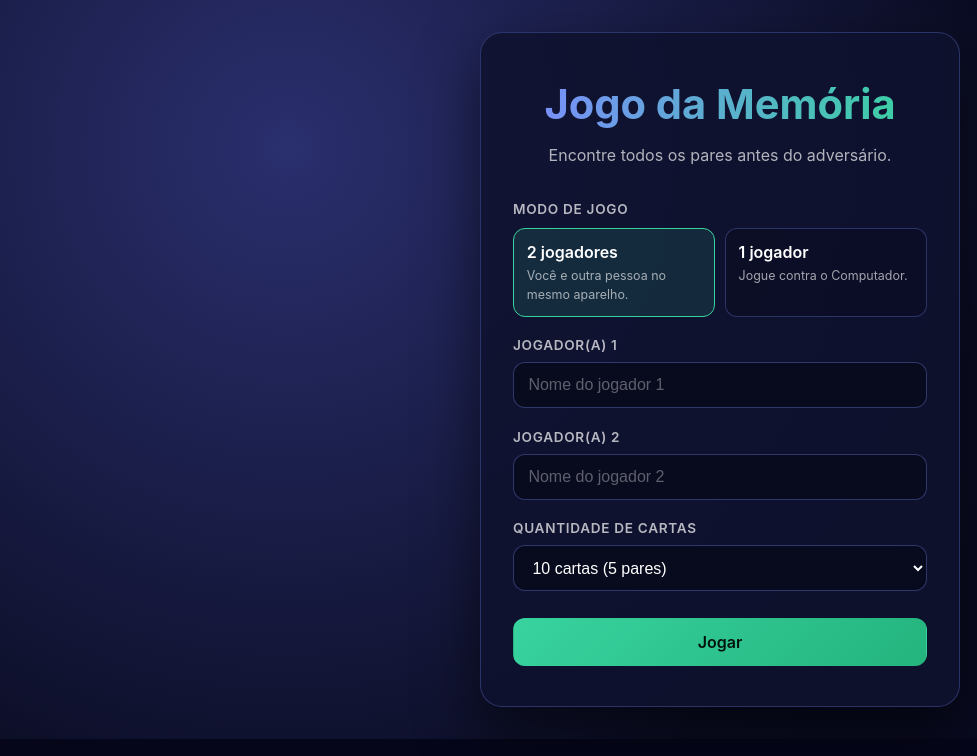
Scenario: InitialForm: modo de jogo › esconde o nome do jogador 2 no modo 1 jogador
Click the radio button labelled "1 jogador Jogue contra o Computador." at [826, 272], box x1=725 y1=228 x2=927 y2=317
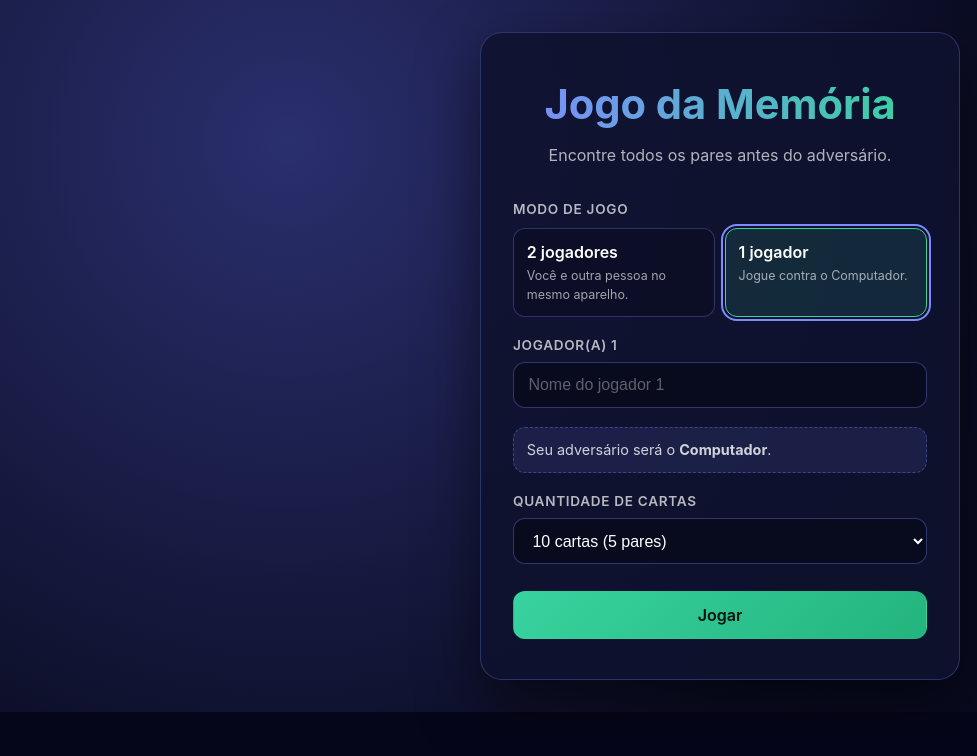
Now the number of fields is 1, box x1=513 y1=362 x2=927 y2=408
Now the element with class "Field-soloNote" shows "Computador", box x1=679 y1=441 x2=767 y2=458
